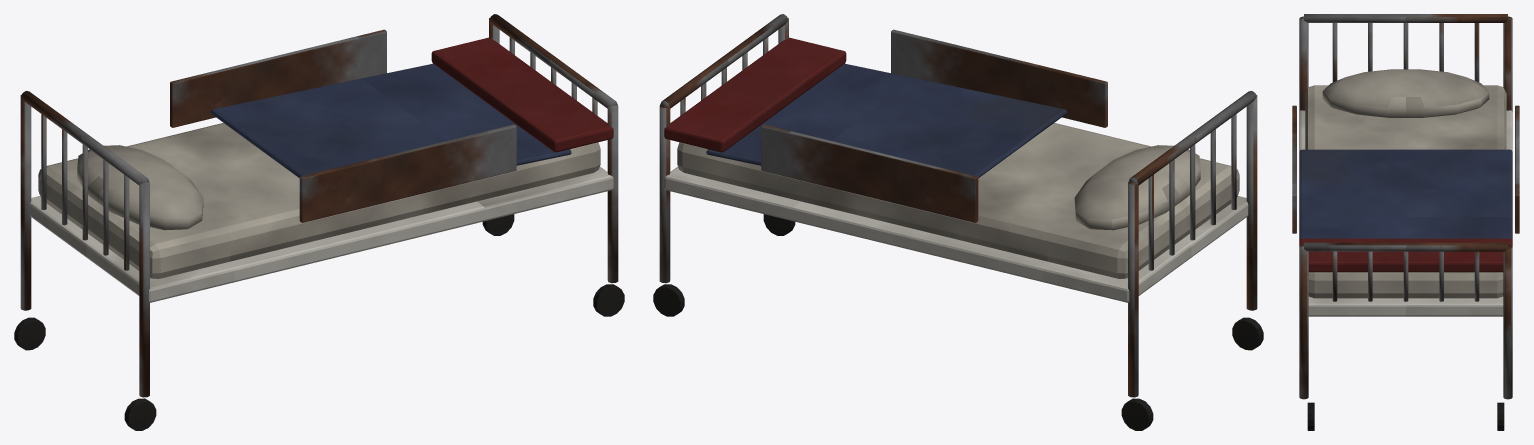
The model's file is H01_hospital_bed.glb.
3 renders of one model, left to right at view 1: azimuth 30°, elevation 25°; view 2: azimuth 150°, elevation 25°; view 3: azimuth 270°, elevation 25°, orthographic. The views are drawn at different scales.
Visible parts, largest first — view 1: H01_hospital_bed; view 2: H01_hospital_bed; view 3: H01_hospital_bed.
Boxes of the visible parts, left/top/right/bottom form: H01_hospital_bed: left=14, top=14, right=624, bottom=430; H01_hospital_bed: left=653, top=14, right=1263, bottom=430; H01_hospital_bed: left=1292, top=14, right=1519, bottom=430.
Bounding box in the file's own units: 2 × 0.9822 × 0.9244.
Materials: 6 (6 with a texture image).
